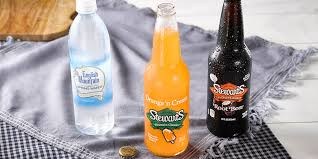not-coke: (141, 3, 192, 159)
